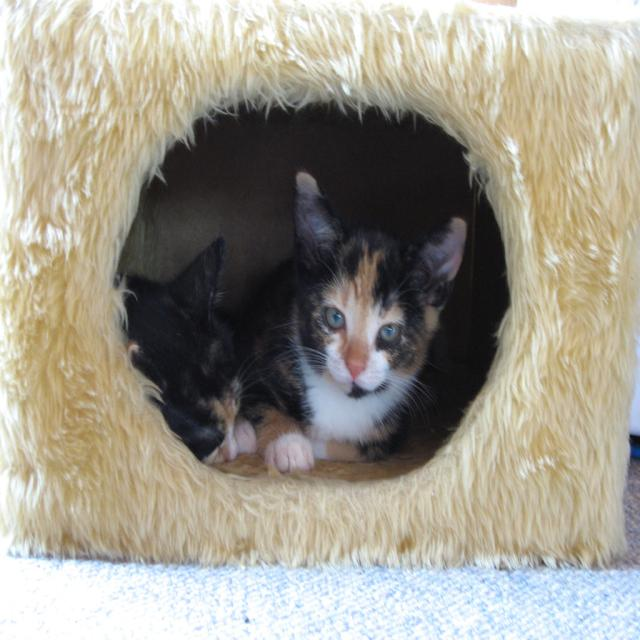left eye: (376, 318, 402, 345)
